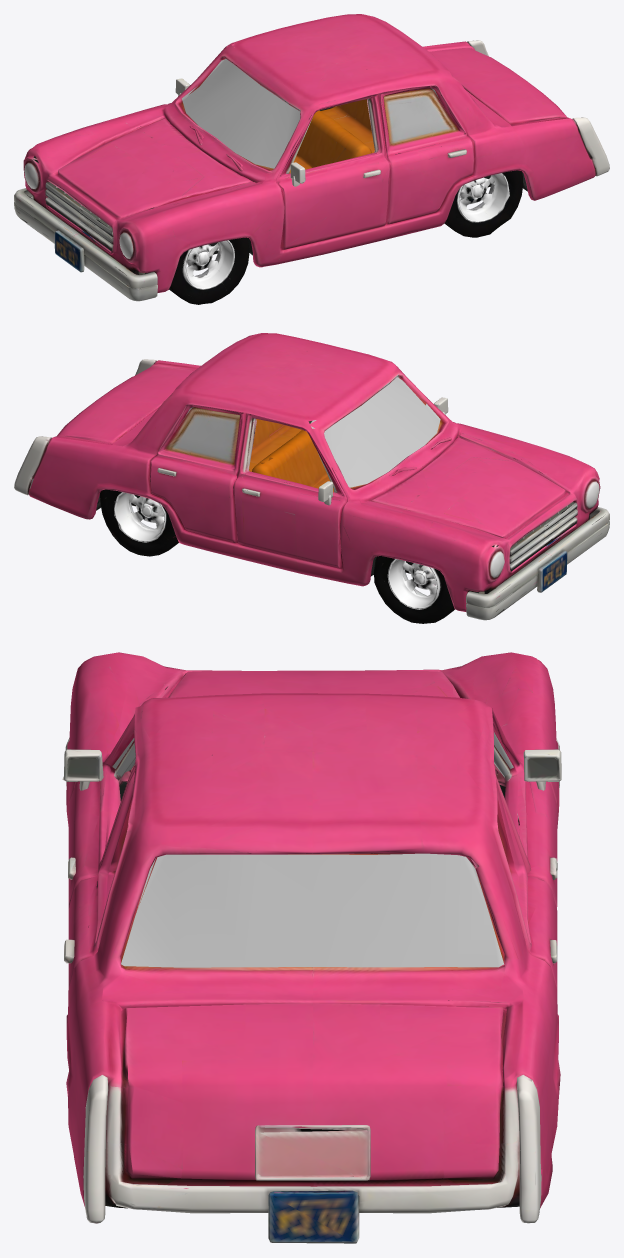
File: family-car.glb
The picture shows the model from 3 angles, top to bottom: view 1: azimuth 30°, elevation 25°; view 2: azimuth 150°, elevation 25°; view 3: azimuth 270°, elevation 25°; orthographic projection. The views are drawn at different scales.
Size of the model in its own units: 0.9531 by 0.3213 by 0.4238.
1 material, 1 textured.
